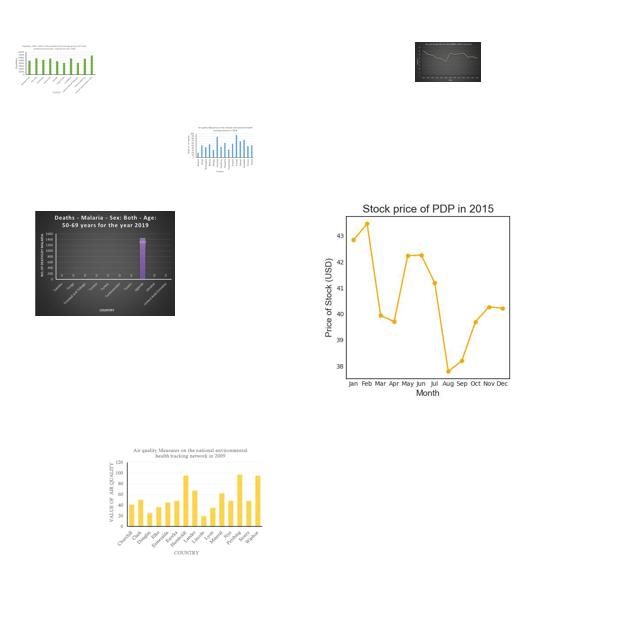Graph: (284, 191, 565, 402), (106, 445, 266, 559), (35, 211, 175, 316), (12, 44, 97, 94), (186, 125, 255, 174), (415, 42, 481, 82)
